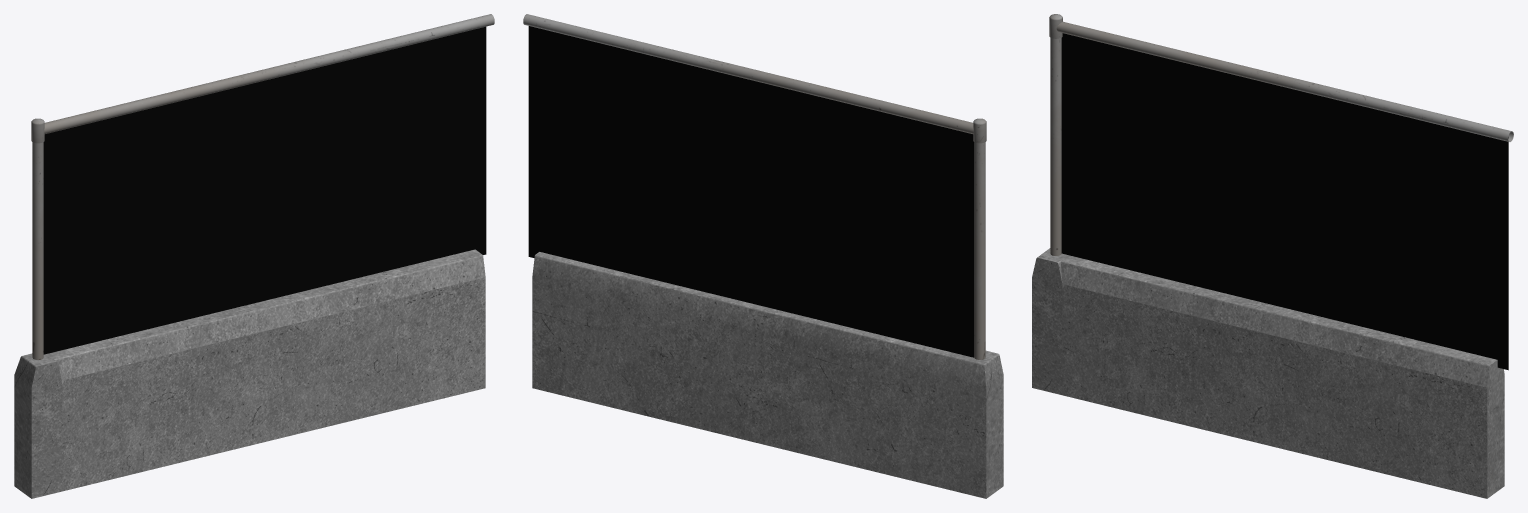
File: chain_wall_corner_cw.fbx
3 renders of one model, left to right at view 1: azimuth 30°, elevation 25°; view 2: azimuth 150°, elevation 25°; view 3: azimuth 330°, elevation 25°, orthographic.
Parts seen in each view (by area): view 1: chain_wall_corner_cw; view 2: chain_wall_corner_cw; view 3: chain_wall_corner_cw.
Part boxes in pixels (bbox=[...]): chain_wall_corner_cw: bbox=[14, 14, 494, 498]; chain_wall_corner_cw: bbox=[523, 14, 1003, 498]; chain_wall_corner_cw: bbox=[1032, 14, 1513, 498].
Size of the model in its own units: 3.1 by 2.33 by 0.2.
2 materials, 2 textured.
